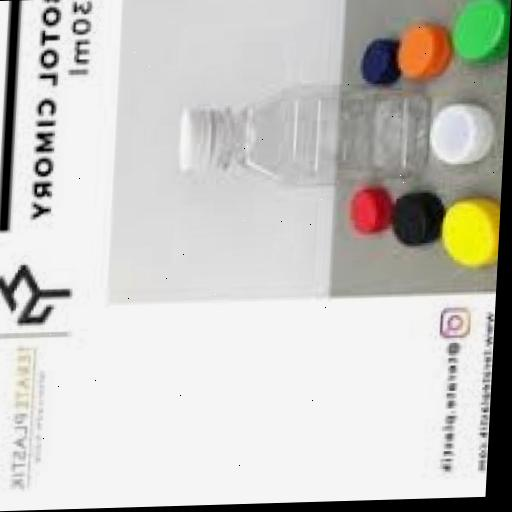bottle: (160, 65, 440, 203)
